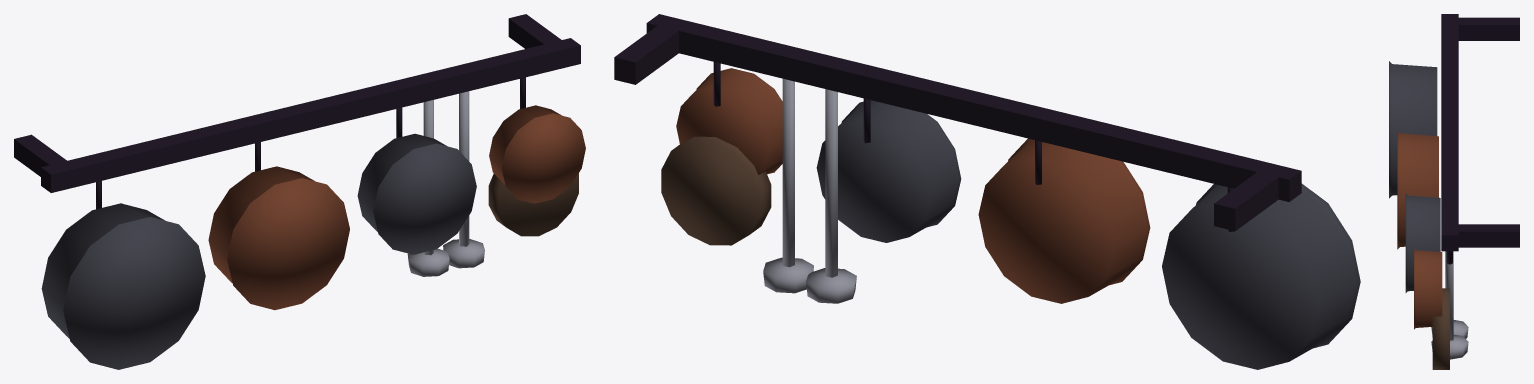
The model's file is pot_rack.glb.
3 renders of one model, left to right at view 1: azimuth 30°, elevation 25°; view 2: azimuth 150°, elevation 25°; view 3: azimuth 270°, elevation 25°, orthographic. The views are drawn at different scales.
Visible parts, largest first — view 1: pot_rack; view 2: pot_rack; view 3: pot_rack.
Part boxes in pixels (bbox=[...]): pot_rack: bbox=[14, 14, 585, 369]; pot_rack: bbox=[614, 14, 1360, 369]; pot_rack: bbox=[1389, 14, 1519, 369].
Size of the model in its own units: 0.931 by 0.315 by 0.2245.
